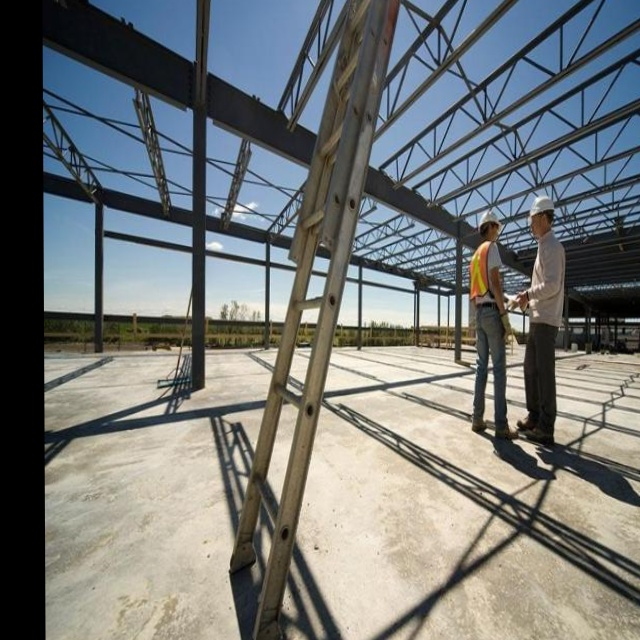Con_Casco: (531, 193, 552, 232), (480, 210, 503, 239)
Con_Chaleco: (469, 243, 499, 306)
Sin_Chaleco: (530, 237, 565, 316)
